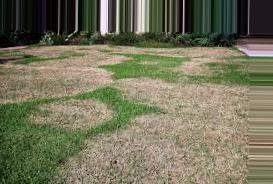patch: (132, 128, 211, 181), (181, 92, 241, 123), (17, 71, 56, 88), (136, 80, 157, 95)
